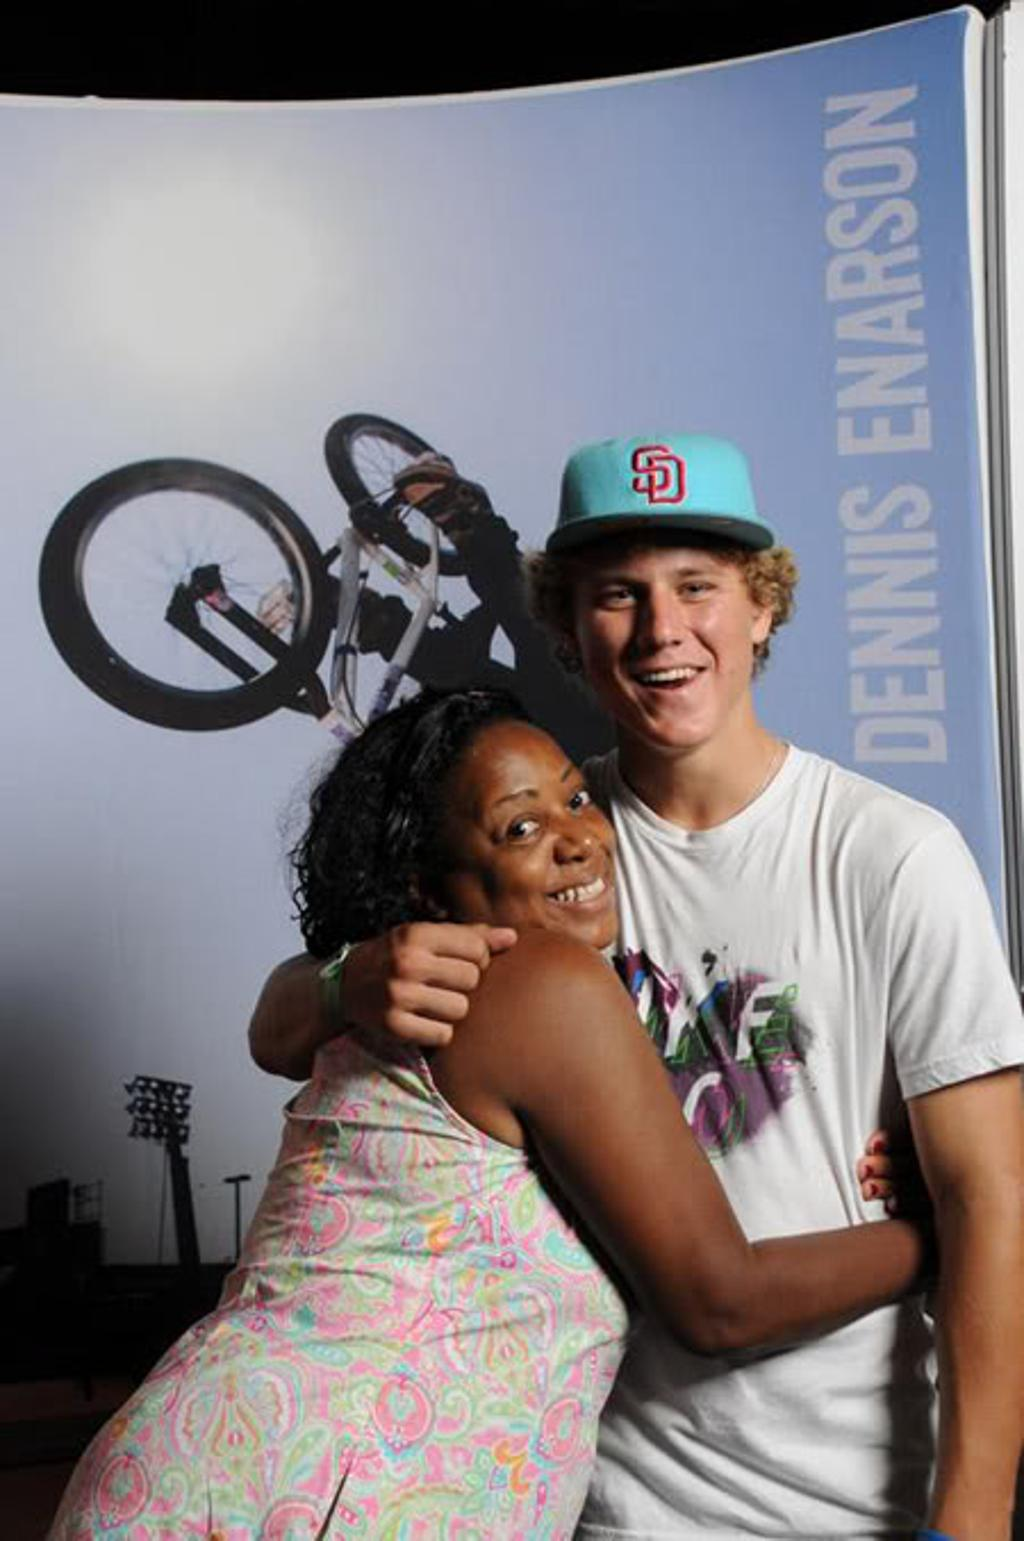face: (581, 527, 756, 750), (473, 738, 630, 970)
